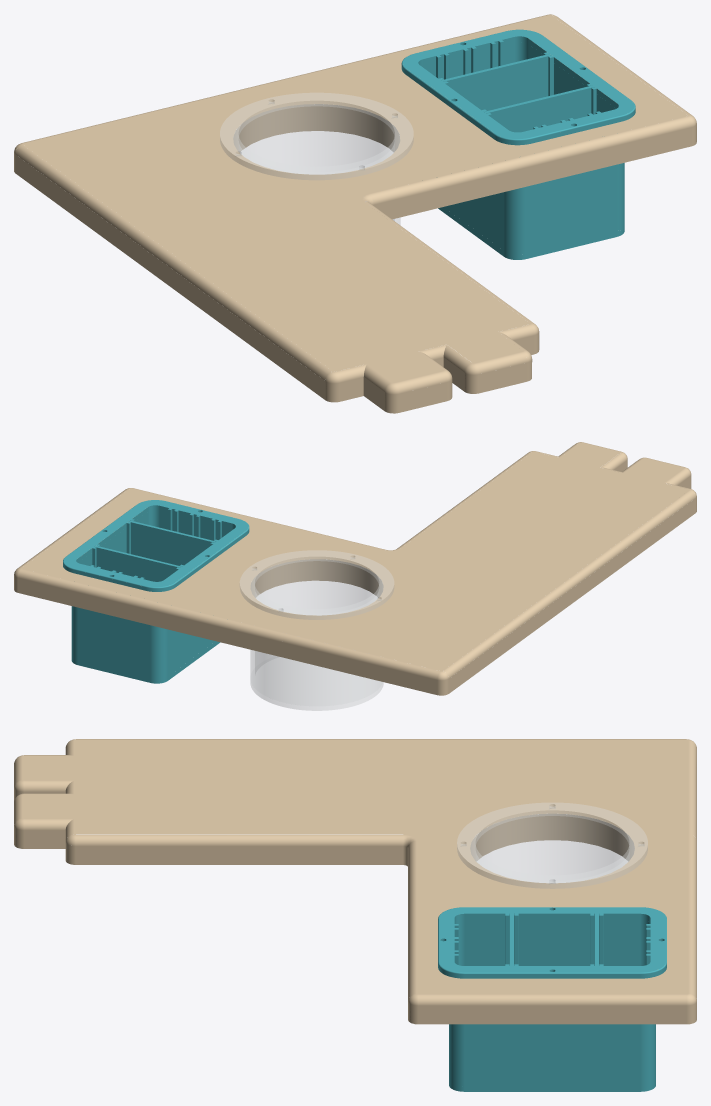
Rendered from ergoflex-side-shelf-large-cubby.glb.
The picture shows the model from 3 angles, top to bottom: view 1: azimuth 30°, elevation 25°; view 2: azimuth 150°, elevation 25°; view 3: azimuth 270°, elevation 25°; orthographic projection. The views are drawn at different scales.
Parts seen in each view (by area): view 1: Side shelf wood, Side shelf print, Side shelf acrylic; view 2: Side shelf wood, Side shelf print, Side shelf acrylic; view 3: Side shelf wood, Side shelf print, Side shelf acrylic.
Boxes of the visible parts, x1=… form: Side shelf wood: x1=14, y1=14, x2=696, y2=413; Side shelf print: x1=401, y1=29, x2=635, y2=259; Side shelf acrylic: x1=220, y1=93, x2=413, y2=224; Side shelf wood: x1=14, y1=442, x2=696, y2=695; Side shelf print: x1=63, y1=500, x2=249, y2=683; Side shelf acrylic: x1=240, y1=550, x2=393, y2=710; Side shelf wood: x1=14, y1=739, x2=696, y2=1024; Side shelf print: x1=438, y1=907, x2=666, y2=1091; Side shelf acrylic: x1=457, y1=803, x2=647, y2=888.
Size of the model in its own units: 0.381 by 0.0838 by 0.4204.
